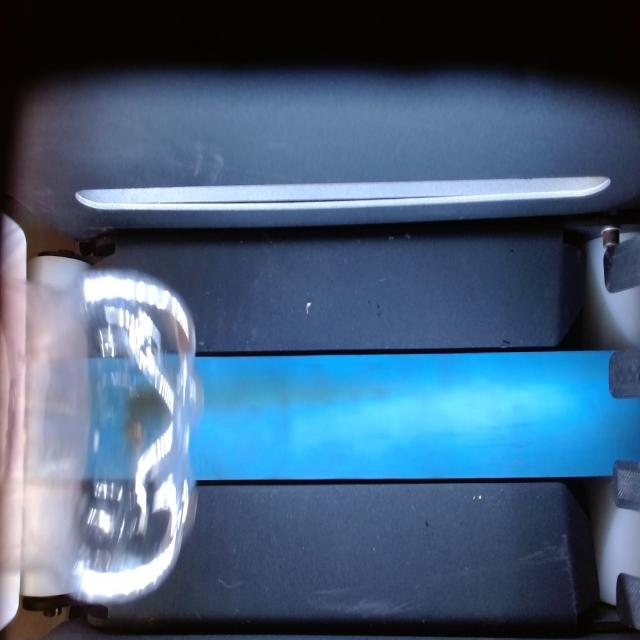bottom: (0, 267, 210, 613)
